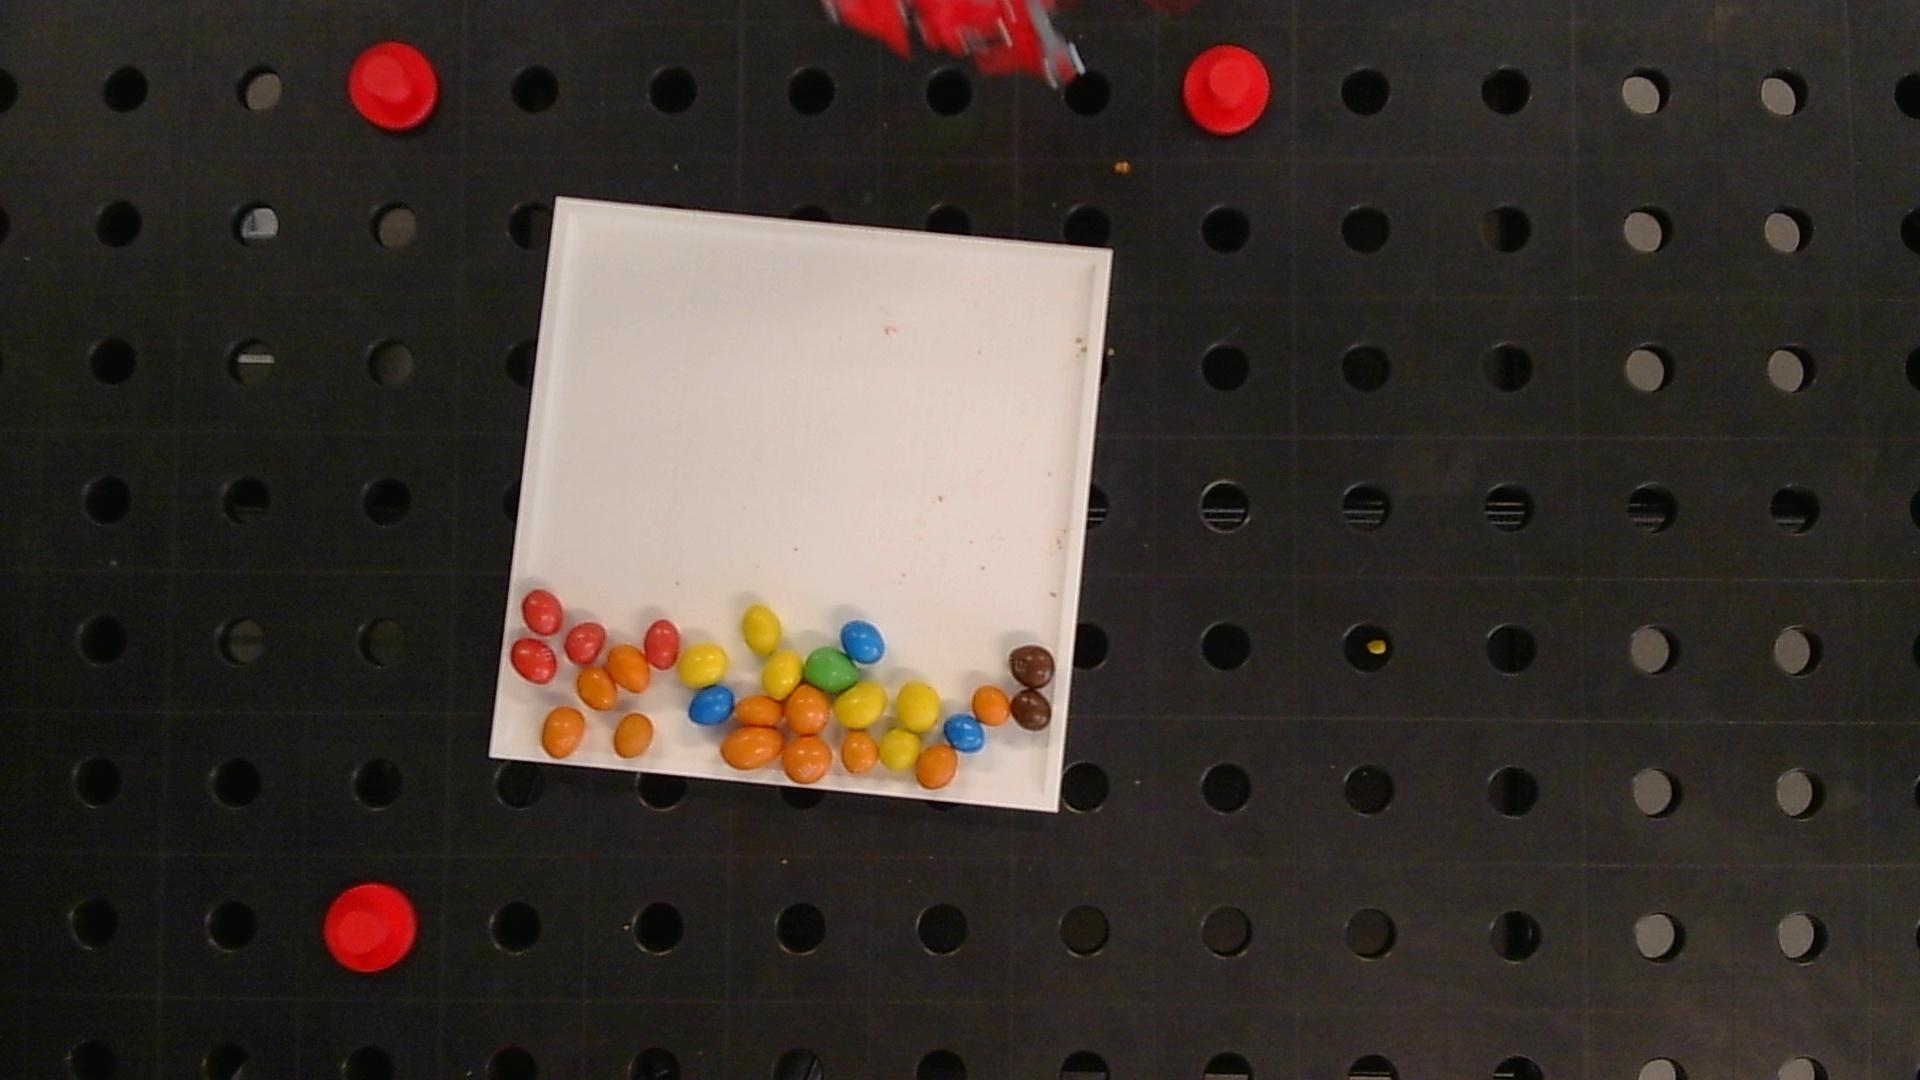blue: (841, 620, 885, 665), (688, 684, 736, 725), (943, 715, 985, 752)
brown: (1009, 645, 1056, 687), (1009, 690, 1051, 729)
green: (804, 647, 858, 692)
orange: (721, 727, 782, 770), (782, 737, 832, 783), (785, 686, 831, 735), (542, 707, 584, 757), (607, 645, 649, 692), (613, 713, 654, 757), (916, 746, 957, 789), (578, 667, 616, 709), (841, 732, 878, 774), (972, 686, 1010, 725), (736, 695, 783, 725)
red: (510, 640, 556, 684), (521, 589, 563, 634), (644, 618, 679, 669), (564, 621, 605, 663)
yellow: (835, 682, 886, 729), (895, 682, 940, 732), (678, 644, 728, 687), (744, 604, 781, 654), (764, 651, 802, 698), (880, 729, 920, 769)
